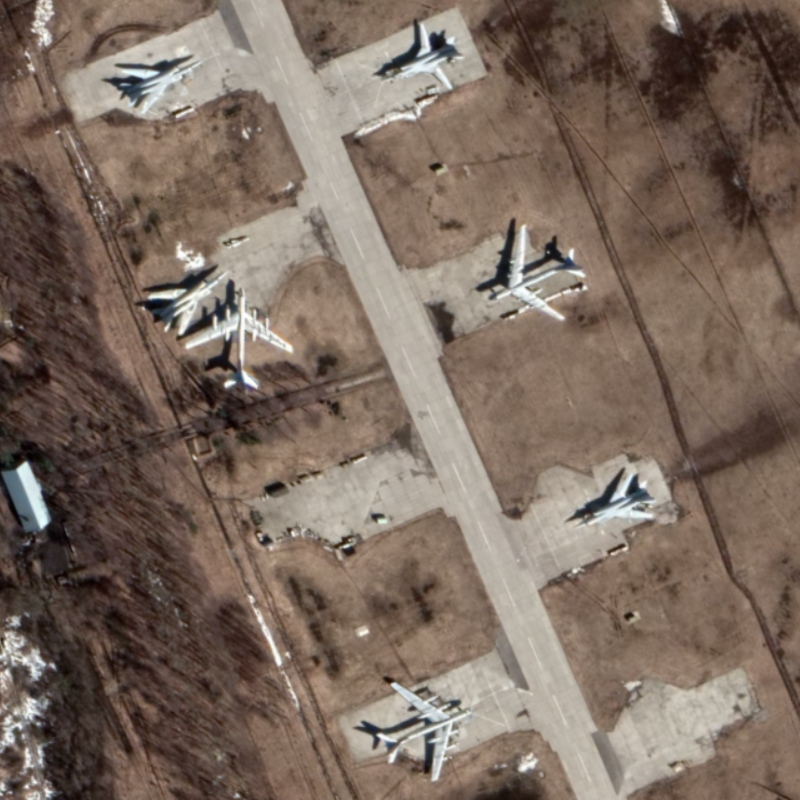A12: (379, 21, 466, 92), (145, 269, 228, 337), (573, 471, 658, 531), (118, 59, 204, 116)
A17: (183, 285, 296, 396), (374, 680, 474, 783), (487, 223, 588, 323)
